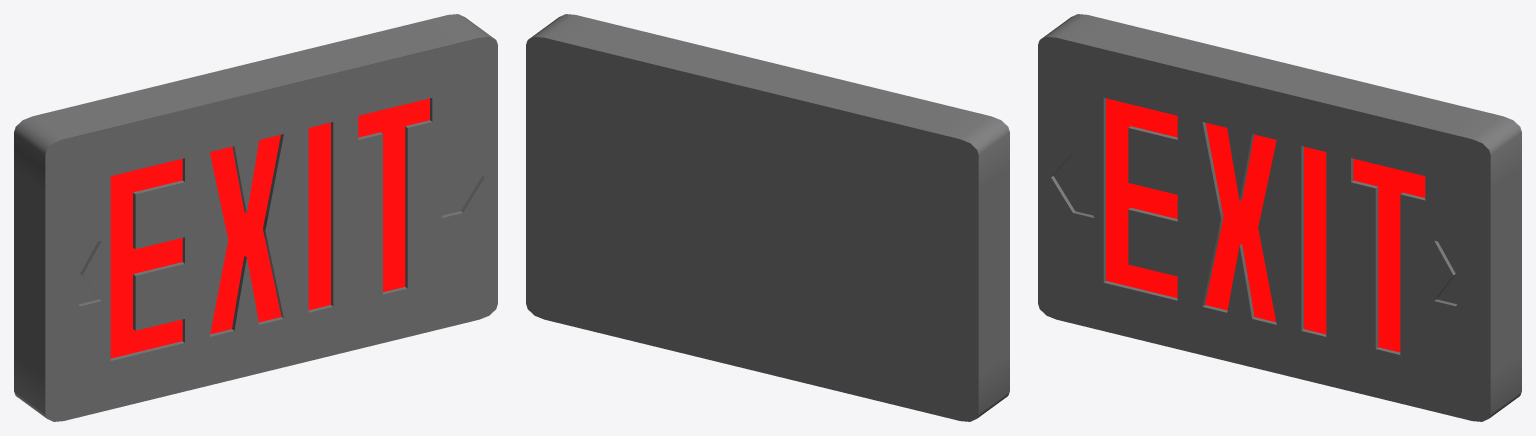
The model's file is Exit_NoArrows.FBX.
The picture shows the model from 3 angles, left to right: view 1: azimuth 30°, elevation 25°; view 2: azimuth 150°, elevation 25°; view 3: azimuth 330°, elevation 25°; orthographic projection.
Parts seen in each view (by area): view 1: ExitSign; view 2: ExitSign; view 3: ExitSign.
Boxes of the visible parts, x1=… form: ExitSign: x1=14, y1=14, x2=497, y2=421; ExitSign: x1=526, y1=14, x2=1009, y2=421; ExitSign: x1=1038, y1=14, x2=1521, y2=421.
Size of the model in its own units: 40.34 by 24 by 4.82.
